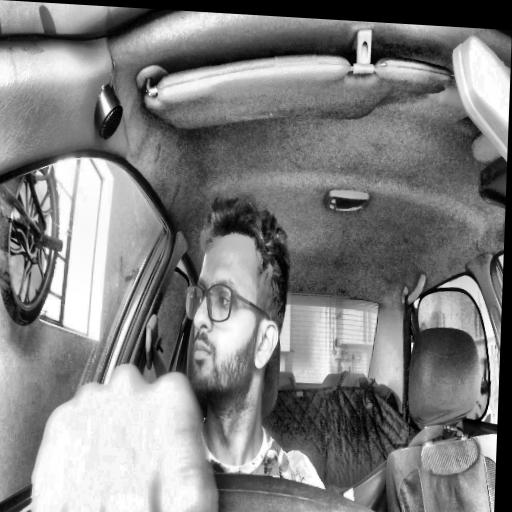awake: (182, 194, 293, 412)
